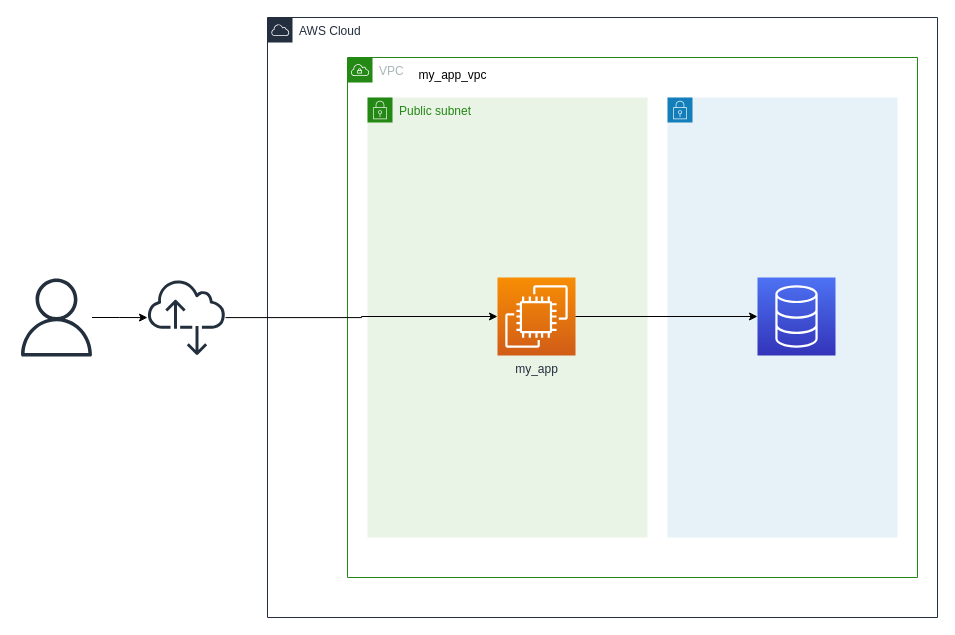
Some shapes in this 955 by 635 pixel diagram are drawn without their labels. Here are the shapes that lost their labels. From the top down, the box of each, then its label:
(17, 278, 95, 356): Client
(666, 96, 898, 538): Private subnet
